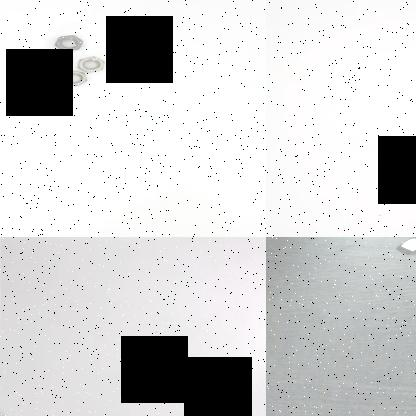NUTS: (37, 48, 73, 68), (54, 32, 88, 50), (75, 54, 107, 73), (389, 237, 416, 258), (26, 64, 54, 84), (61, 67, 88, 87)
